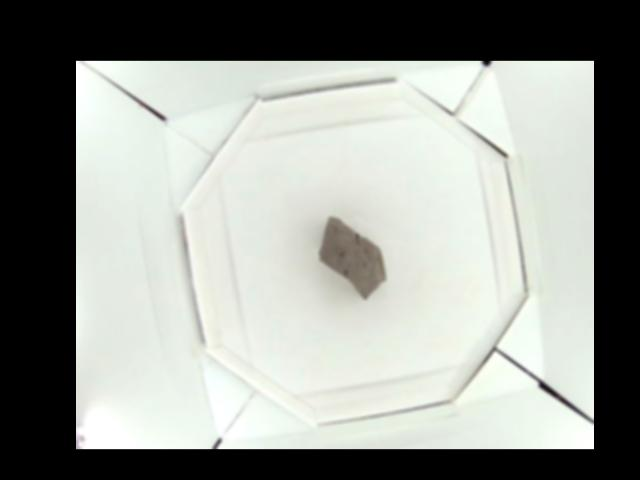China: (319, 216, 388, 300)
